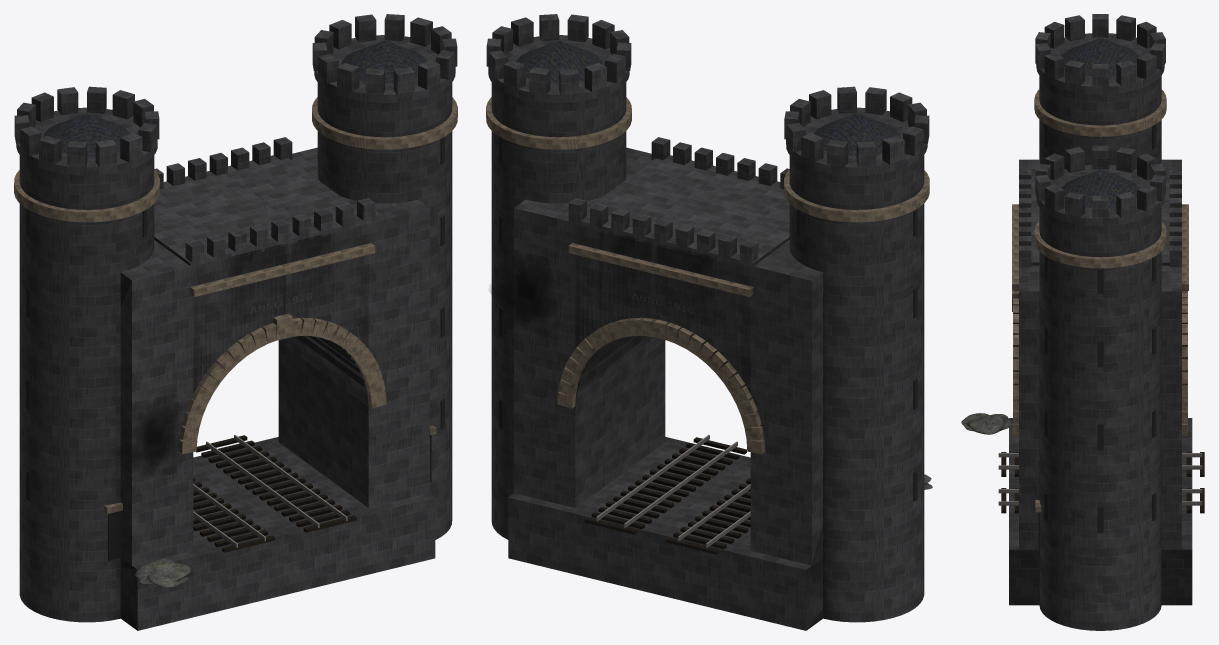
Rendered from bridge_tower.glb.
The picture shows the model from 3 angles, left to right: view 1: azimuth 30°, elevation 25°; view 2: azimuth 150°, elevation 25°; view 3: azimuth 270°, elevation 25°; orthographic projection. The views are drawn at different scales.
Parts seen in each view (by area): view 1: BridgeTower; view 2: BridgeTower; view 3: BridgeTower.
Part boxes in pixels (<box>): BridgeTower: <box>14,14,457,630</box>; BridgeTower: <box>486,14,932,630</box>; BridgeTower: <box>961,14,1204,630</box>.
Bounding box in the file's own units: 21.8 × 23.6 × 11.96.
Materials: 9 (7 with a texture image).
